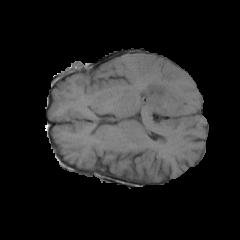glioma: (125, 82, 174, 112)
